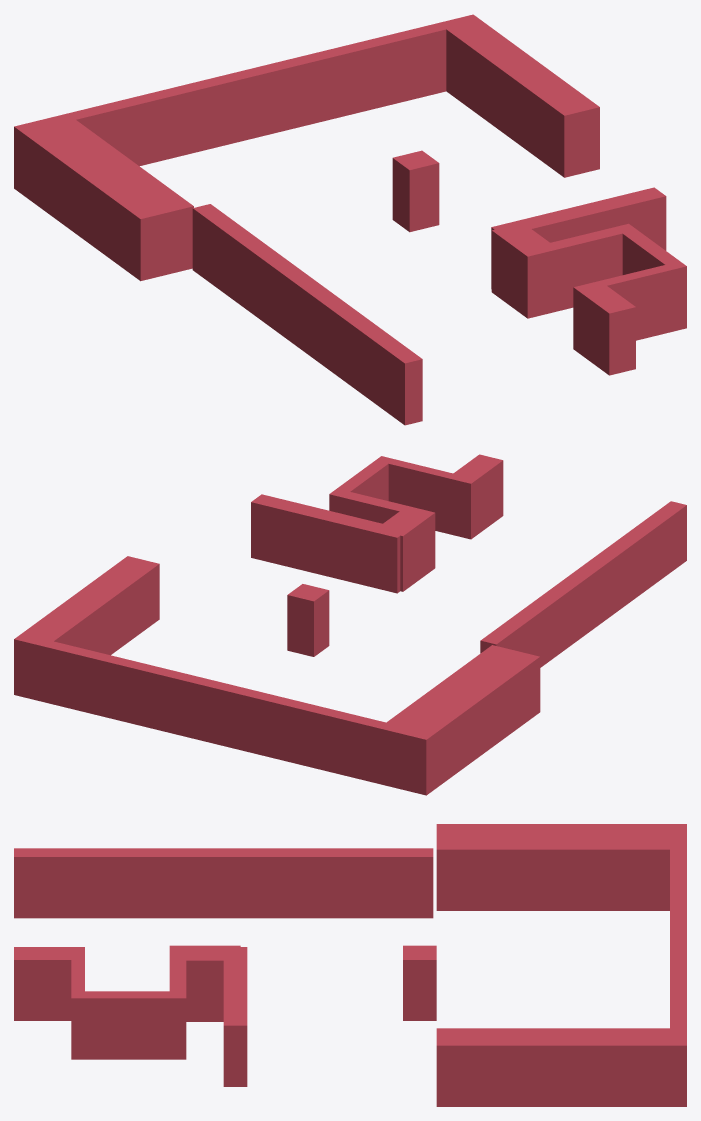
Rendered from coliders.glb.
3 renders of one model, top to bottom at view 1: azimuth 30°, elevation 25°; view 2: azimuth 150°, elevation 25°; view 3: azimuth 270°, elevation 25°, orthographic. The views are drawn at different scales.
Parts seen in each view (by area): view 1: Mesh_Mesh_head_geo.001_lambert2SG.001; view 2: Mesh_Mesh_head_geo.001_lambert2SG.001; view 3: Mesh_Mesh_head_geo.001_lambert2SG.001.
Part boxes in pixels (box(x1,y1,x2,y2)): Mesh_Mesh_head_geo.001_lambert2SG.001: box(14, 14, 686, 425); Mesh_Mesh_head_geo.001_lambert2SG.001: box(14, 454, 686, 795); Mesh_Mesh_head_geo.001_lambert2SG.001: box(14, 824, 686, 1106).
Size of the model in its own units: 0.155 by 0.02 by 0.199.
